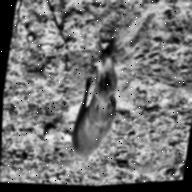boar: (63, 26, 149, 164)
